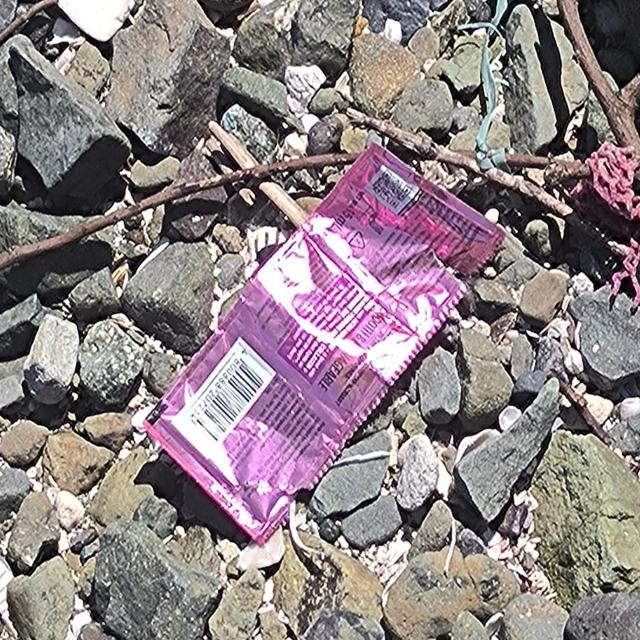plastic_waste: (142, 140, 508, 551)
